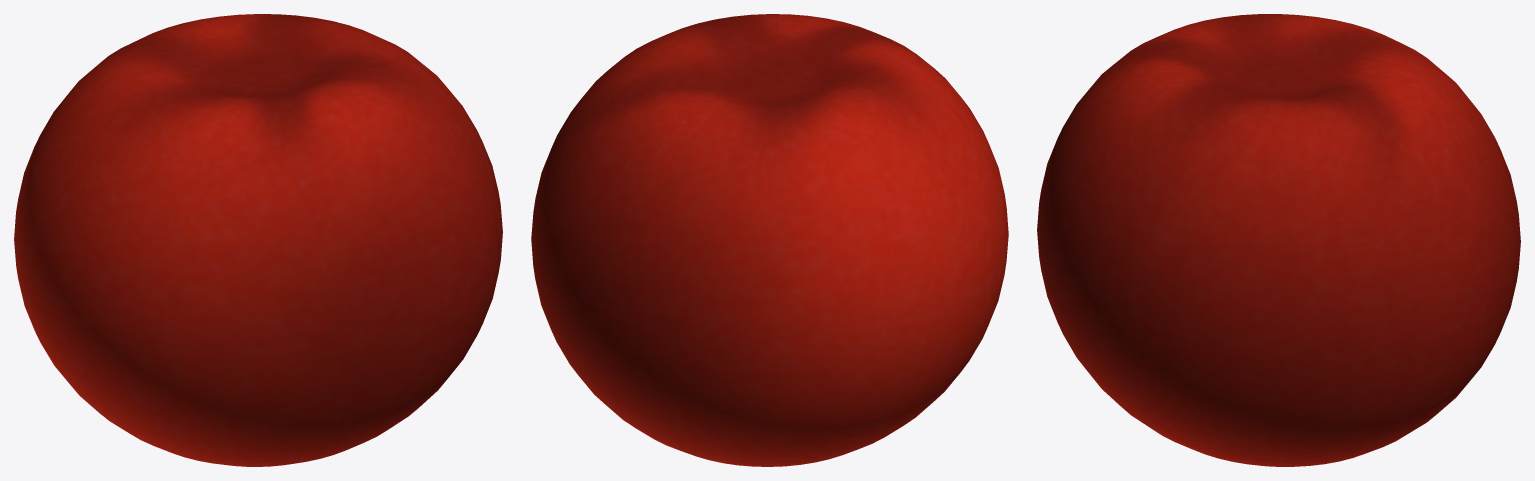
The model's file is tomato_00.obj.
3 renders of one model, left to right at view 1: azimuth 30°, elevation 25°; view 2: azimuth 150°, elevation 25°; view 3: azimuth 270°, elevation 25°, orthographic. The views are drawn at different scales.
Visible parts, largest first — view 1: tomato_00; view 2: tomato_00; view 3: tomato_00.
Boxes of the visible parts, left/top/right/bottom form: tomato_00: left=14, top=14, right=502, bottom=466; tomato_00: left=531, top=14, right=1008, bottom=466; tomato_00: left=1037, top=14, right=1520, bottom=466.
Size of the model in its own units: 3.62 by 3.18 by 3.62.
Materials: 1 (1 with a texture image).
